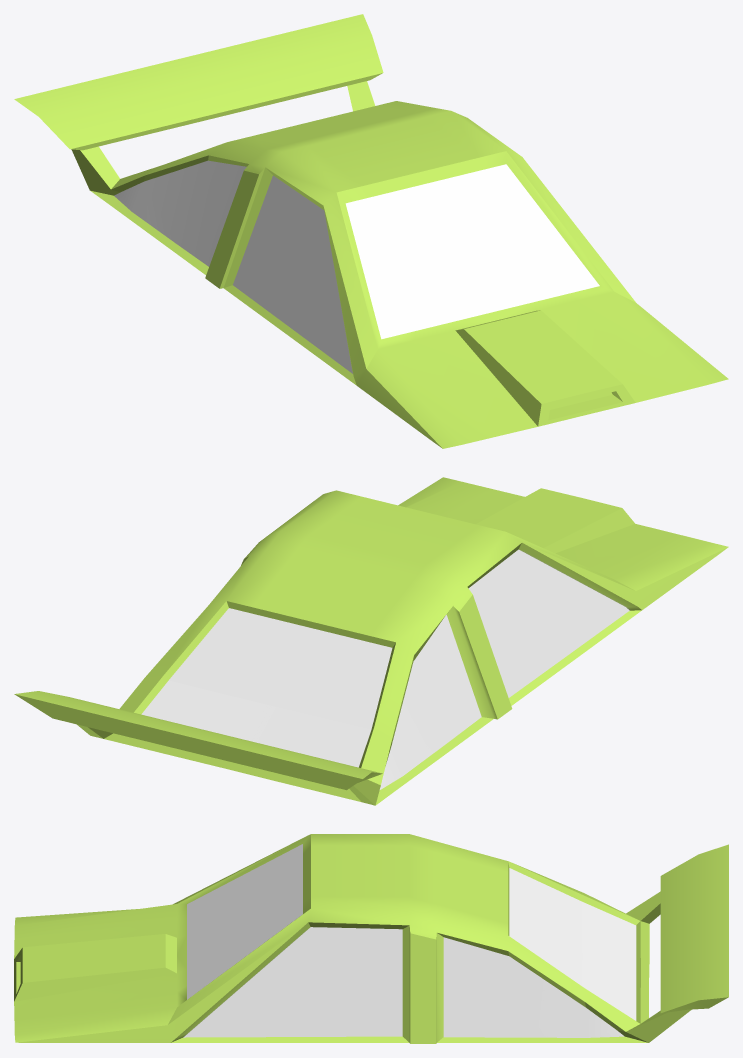
File: SPORT-TOP-Hf_1kQyR.glb
3 views of the same model, one above another, from view 1: azimuth 30°, elevation 25°; view 2: azimuth 150°, elevation 25°; view 3: azimuth 270°, elevation 25° (orthographic). The views are drawn at different scales.
Bounding box in the file's own units: 1.83 × 0.6125 × 3.63.
Materials: 2 (2 with a texture image).
